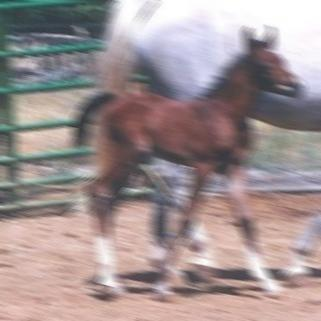horse: (71, 22, 304, 301)
